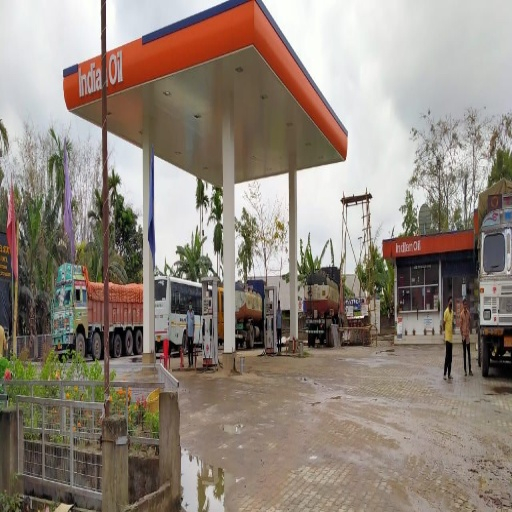roof: (62, 4, 344, 190)
